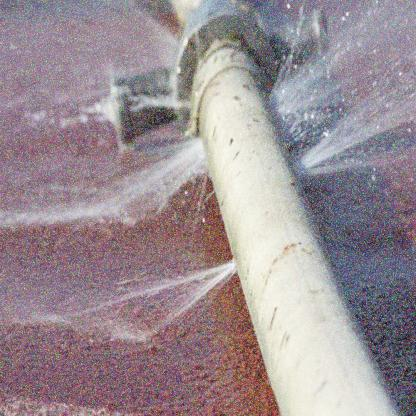burst: (272, 72, 355, 188), (163, 125, 230, 188), (217, 237, 268, 299)
